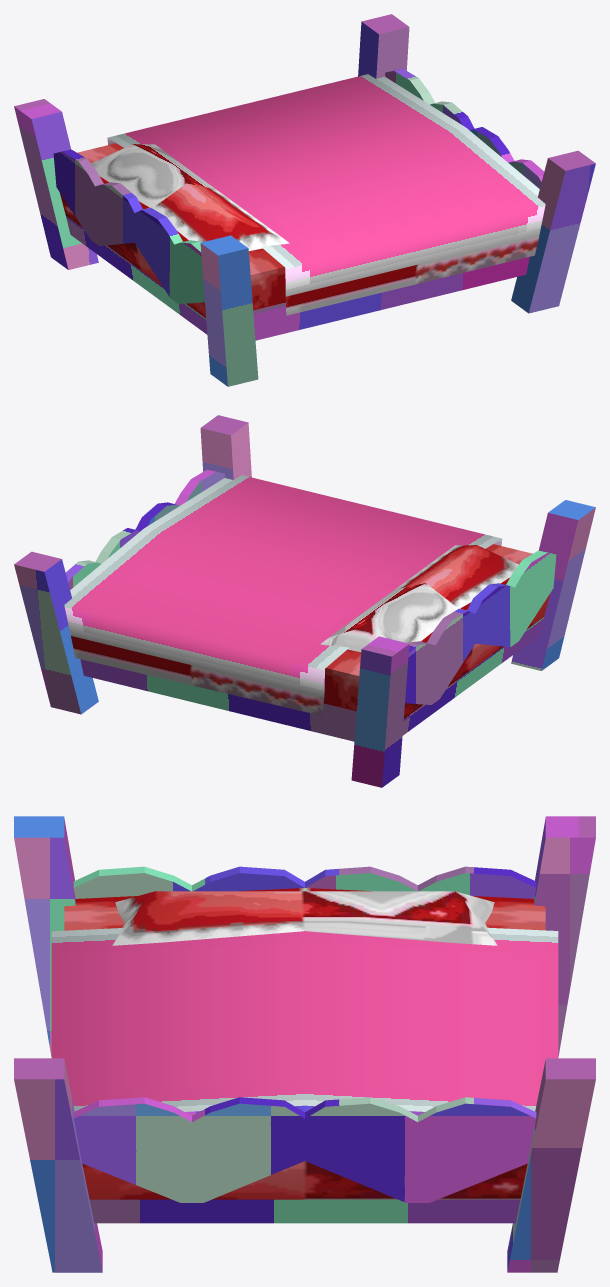
File: rmk_lov_bedW_jwl.dae
3 renders of one model, top to bottom at view 1: azimuth 30°, elevation 25°; view 2: azimuth 150°, elevation 25°; view 3: azimuth 270°, elevation 25°, orthographic. The views are drawn at different scales.
Parts seen in each view (by area): view 1: rmk_lov_bedW_jwl; view 2: rmk_lov_bedW_jwl; view 3: rmk_lov_bedW_jwl.
Part boxes in pixels (<box>): rmk_lov_bedW_jwl: <box>14,14,595,386</box>; rmk_lov_bedW_jwl: <box>14,415,595,787</box>; rmk_lov_bedW_jwl: <box>14,816,595,1272</box>.
Size of the model in its own units: 62 by 23.02 by 58.
3 materials, 3 textured.
